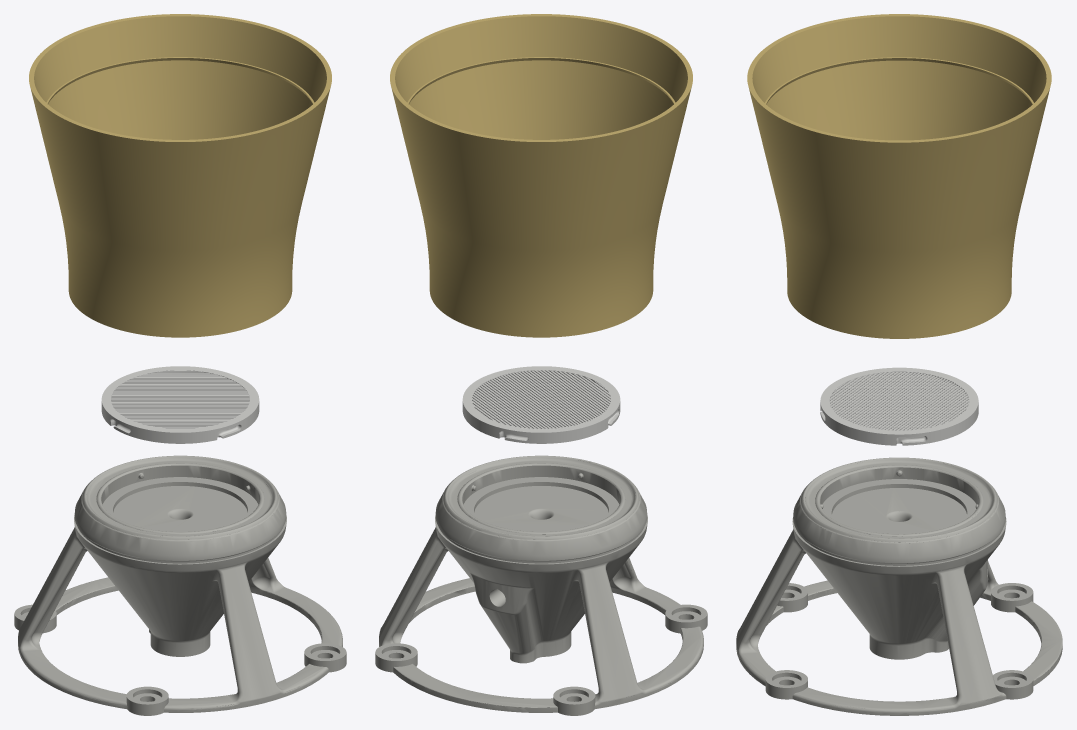
The model's file is assembly-exploded.glb.
The picture shows the model from 3 angles, left to right: view 1: azimuth 30°, elevation 25°; view 2: azimuth 150°, elevation 25°; view 3: azimuth 270°, elevation 25°; orthographic projection.
Parts seen in each view (by area): view 1: funnel, base, filter-support; view 2: funnel, base, filter-support; view 3: funnel, base, filter-support.
Boxes of the visible parts, left/top/right/bottom form: funnel: left=29, top=14, right=331, bottom=337; base: left=14, top=455, right=346, bottom=715; filter-support: left=101, top=366, right=259, bottom=443; funnel: left=390, top=14, right=692, bottom=337; base: left=375, top=455, right=707, bottom=715; filter-support: left=462, top=366, right=620, bottom=443; funnel: left=747, top=14, right=1051, bottom=338; base: left=736, top=457, right=1062, bottom=715; filter-support: left=820, top=367, right=978, bottom=445.
Size of the model in its own units: 0.077 by 0.148 by 0.077.
